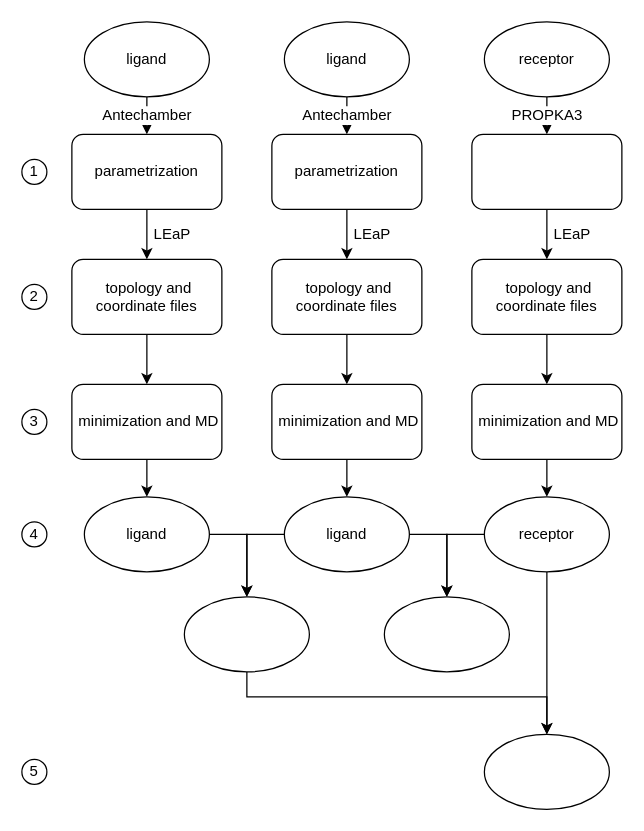
Image size: 644x831. Some labels were removed from this diagram. The centre of each missing label's shape, as x and y in pixels:
complex: (446,634)
complex-morph: (546,771)
morph: (246,634)
protonation: (546,171)
